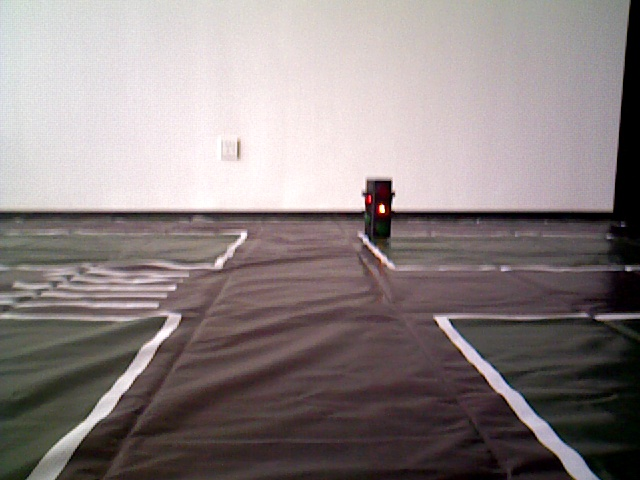yellow: (365, 177, 392, 242)
